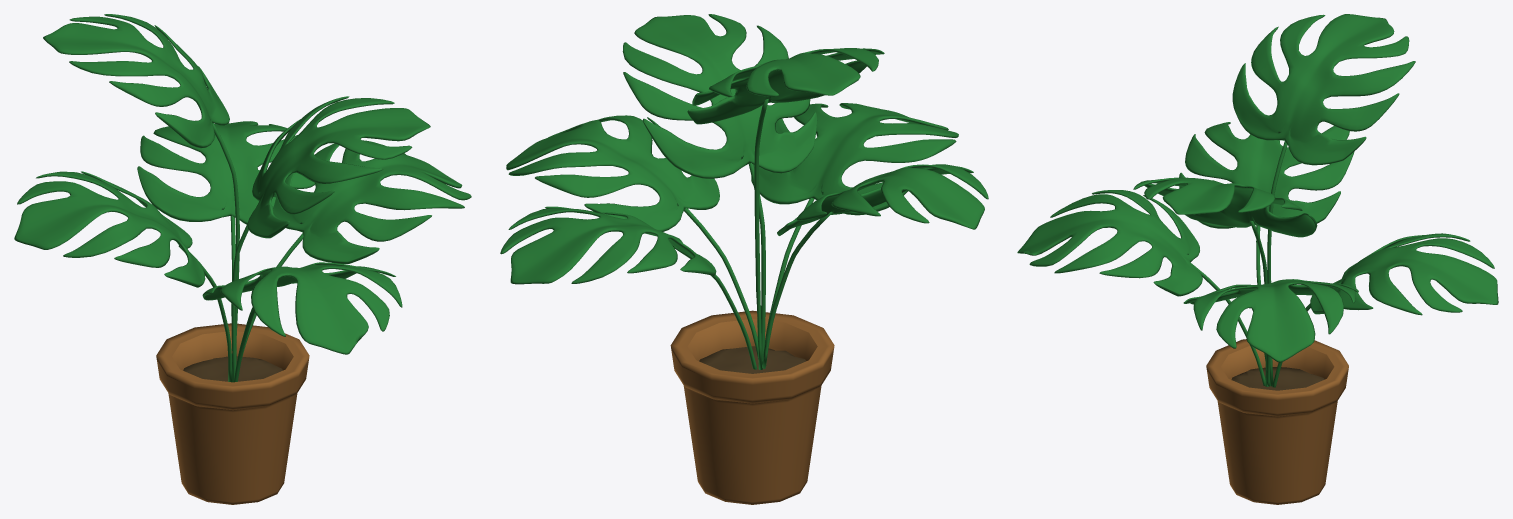
Rendered from kasvi.fbx.
The picture shows the model from 3 angles, left to right: view 1: azimuth 30°, elevation 25°; view 2: azimuth 150°, elevation 25°; view 3: azimuth 270°, elevation 25°; orthographic projection. The views are drawn at different scales.
Visible parts, largest first — view 1: lehder, kasvi, multa; view 2: lehder, kasvi, multa; view 3: lehder, kasvi, multa.
Part boxes in pixels (x1,y1,x2,y2): lehder: [14, 14, 471, 382]; kasvi: [156, 323, 309, 504]; multa: [183, 356, 282, 381]; lehder: [500, 14, 988, 369]; kasvi: [670, 310, 834, 504]; multa: [699, 346, 805, 373]; lehder: [1017, 14, 1498, 387]; kasvi: [1206, 339, 1348, 504]; multa: [1231, 367, 1324, 390].
Size of the model in its own units: 95.32 by 90.61 by 96.51.
